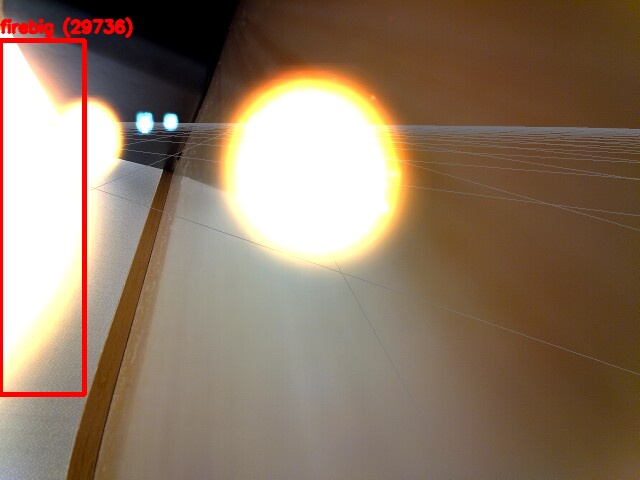firebig: (0, 40, 84, 394)
